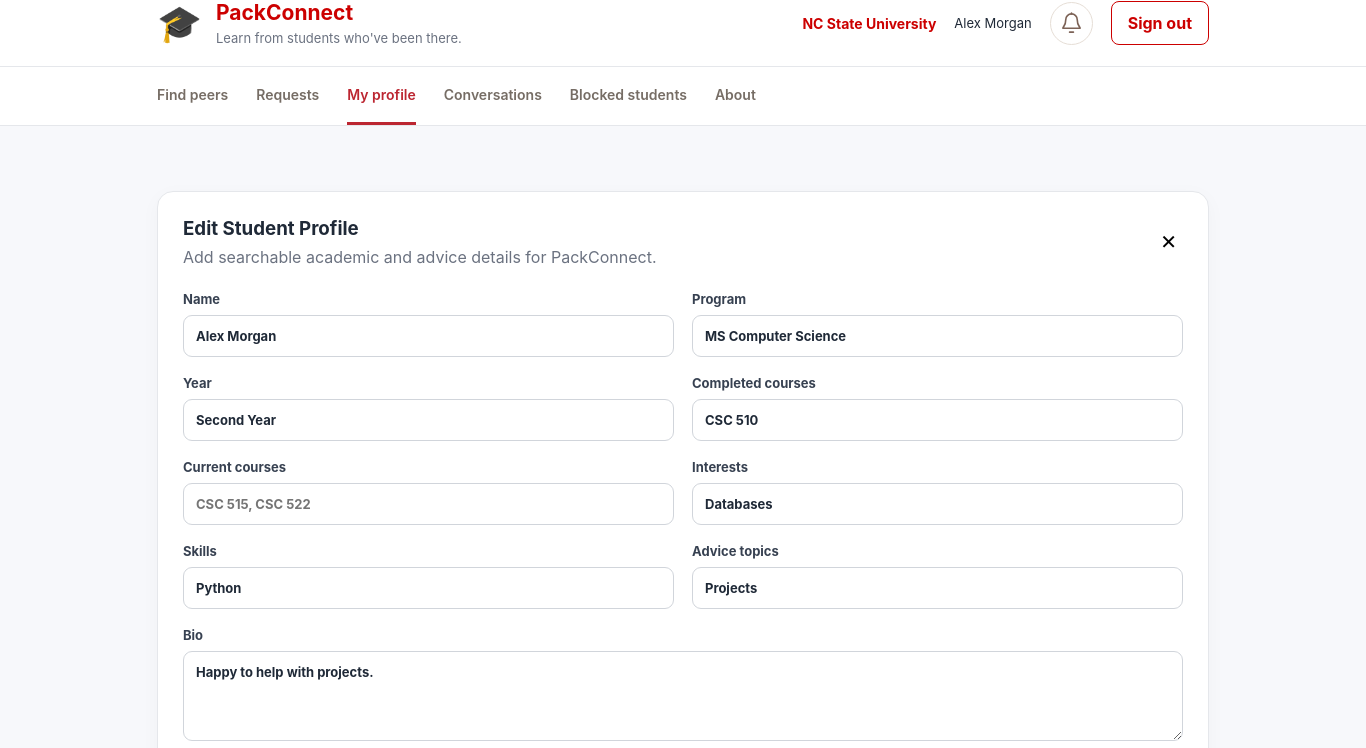
Scenario: profile editor › discards cancelled edits and restores saved values when reopened
Replace the text in the text box labelled "Bio" with "Unsaved change" at (683, 696), box [183, 651, 1183, 741]
(page scrolled)
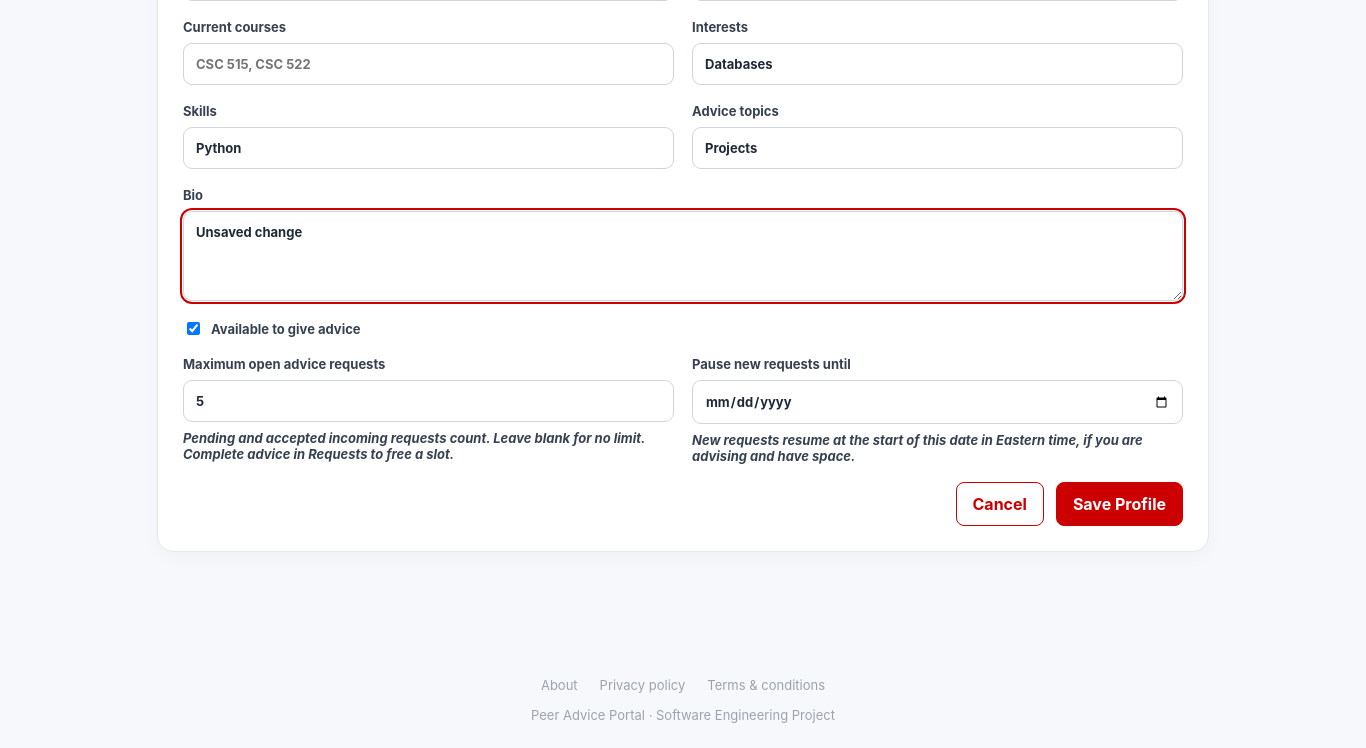
Click the button "Cancel" at (1000, 504), box [956, 482, 1044, 526]
(page scrolled)
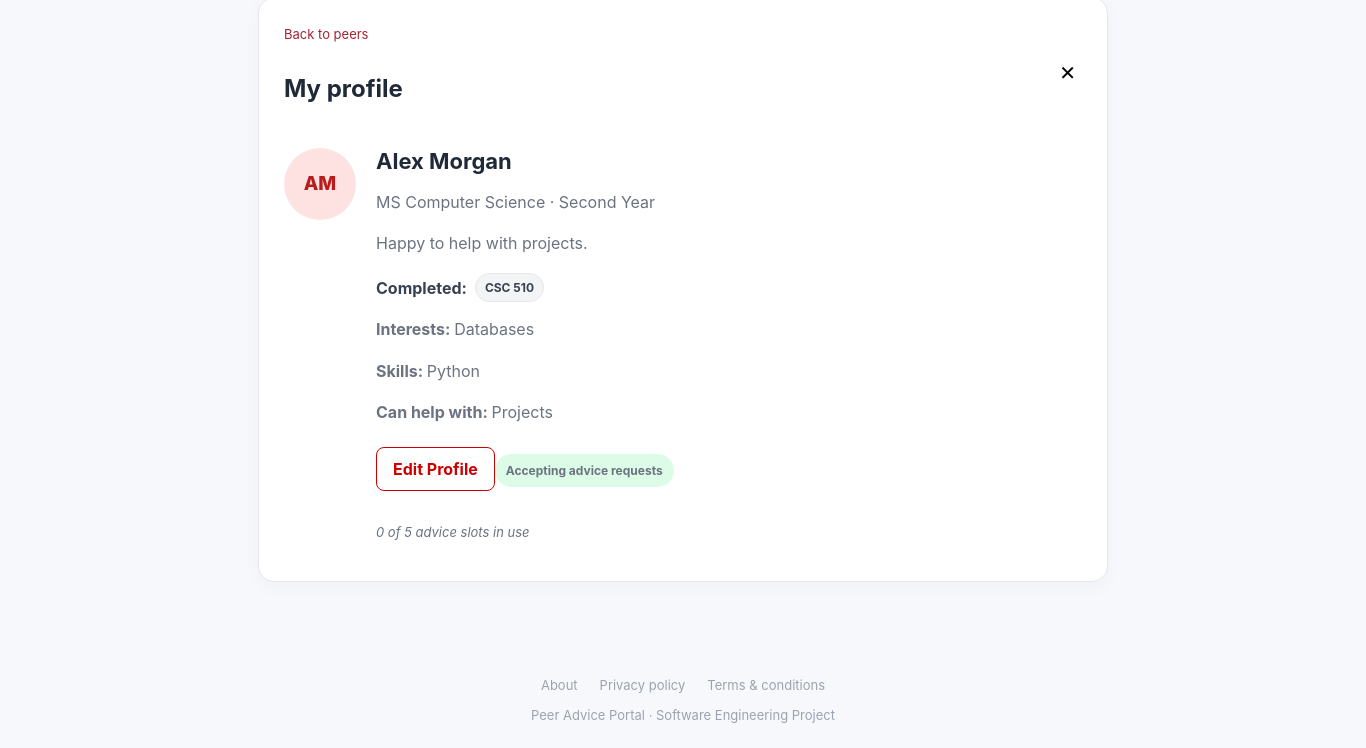
Click the button "Edit Profile" at (435, 469), box [376, 447, 495, 491]
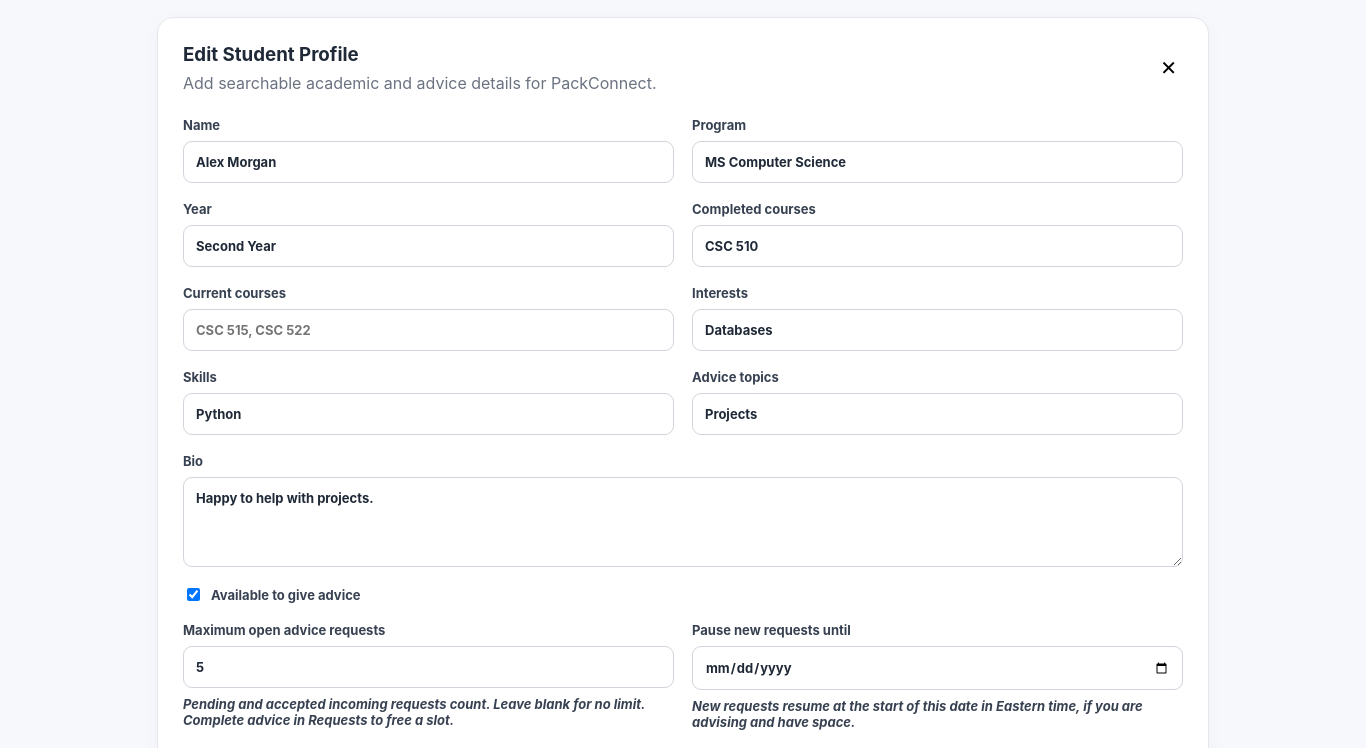
Now the text box labelled "Bio" holds "Happy to help with projects.", box [183, 477, 1183, 567]
